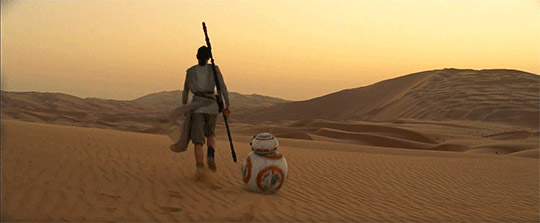bb8: (241, 132, 288, 194)
